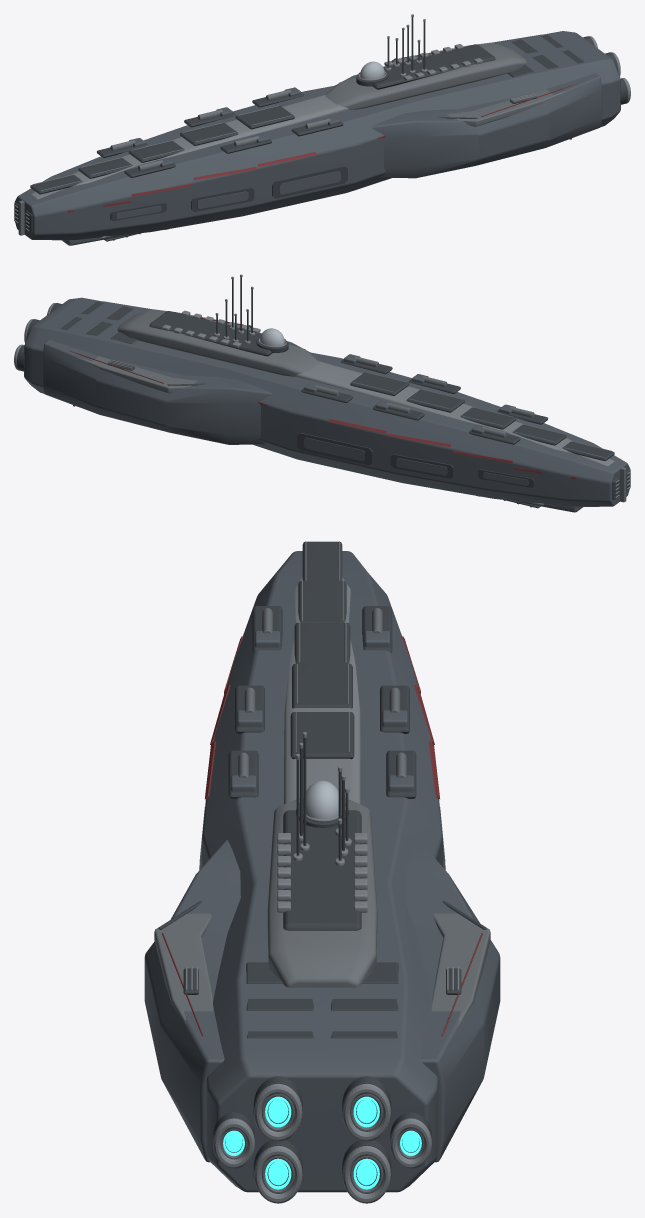
Rendered from wei-ew.glb.
3 views of the same model, one above another, from view 1: azimuth 30°, elevation 25°; view 2: azimuth 150°, elevation 25°; view 3: azimuth 270°, elevation 25° (orthographic). The views are drawn at different scales.
Parts seen in each view (by area): view 1: Faceted continuous wedge, Canted aft wing and field emitter shield, Raised signal intelligence blister, Long sensor deck beam, Black equipment deck, Aft shoulder cap, Recessed dielectric receiver panel.004, Recessed dielectric receiver panel.003, Ventral access apron.002, Access apron inner plate.002, Recessed dielectric receiver panel.002, Recessed dielectric receiver panel.001 (+4 smaller); view 2: Faceted continuous wedge, Canted aft wing and field emitter shield.001, Raised signal intelligence blister, Long sensor deck beam, Black equipment deck, Aft shoulder cap.001, Recessed dielectric receiver panel.004, Recessed dielectric receiver panel.003, Access apron inner plate.005, Ventral access apron.005, Recessed dielectric receiver panel.002, Recessed dielectric receiver panel.001 (+4 smaller); view 3: Faceted continuous wedge, Canted aft wing and field emitter shield.001, Canted aft wing and field emitter shield, Raised signal intelligence blister, Black equipment deck, Long sensor deck beam, Aft shoulder cap, Aft shoulder cap.001, Recessed dielectric receiver panel.004, Recessed dielectric receiver panel.003, Recessed dielectric receiver panel.002, Recessed dielectric receiver panel.001 (+8 smaller).
Boxes of the visible parts, <box> form: Faceted continuous wedge: <box>14,31,620,240</box>; Canted aft wing and field emitter shield: <box>371,73,602,178</box>; Raised signal intelligence blister: <box>325,42,527,109</box>; Long sensor deck beam: <box>30,94,348,199</box>; Black equipment deck: <box>358,44,495,89</box>; Aft shoulder cap: <box>447,89,565,126</box>; Recessed dielectric receiver panel.004: <box>235,105,294,129</box>; Recessed dielectric receiver panel.003: <box>180,122,238,145</box>; Ventral access apron.002: <box>272,166,347,198</box>; Access apron inner plate.002: <box>280,171,340,194</box>; Recessed dielectric receiver panel.002: <box>128,140,184,162</box>; Recessed dielectric receiver panel.001: <box>78,157,132,178</box>; Faceted continuous wedge: <box>24,297,630,506</box>; Canted aft wing and field emitter shield.001: <box>42,340,272,444</box>; Raised signal intelligence blister: <box>117,309,319,376</box>; Long sensor deck beam: <box>296,361,614,465</box>; Black equipment deck: <box>149,311,286,356</box>; Aft shoulder cap.001: <box>77,356,197,393</box>; Recessed dielectric receiver panel.004: <box>350,372,409,395</box>; Recessed dielectric receiver panel.003: <box>406,389,464,412</box>; Access apron inner plate.005: <box>304,437,364,461</box>; Ventral access apron.005: <box>297,433,372,465</box>; Recessed dielectric receiver panel.002: <box>460,407,516,429</box>; Recessed dielectric receiver panel.001: <box>512,424,566,445</box>; Faceted continuous wedge: <box>202,551,442,1192</box>; Canted aft wing and field emitter shield.001: <box>404,841,500,1162</box>; Canted aft wing and field emitter shield: <box>144,840,240,1162</box>; Raised signal intelligence blister: <box>267,798,377,987</box>; Black equipment deck: <box>283,810,361,930</box>; Long sensor deck beam: <box>284,577,360,804</box>; Aft shoulder cap: <box>154,913,213,1024</box>; Aft shoulder cap.001: <box>431,913,490,1027</box>; Recessed dielectric receiver panel.004: <box>290,712,354,759</box>; Recessed dielectric receiver panel.003: <box>292,663,352,708</box>; Recessed dielectric receiver panel.002: <box>294,622,350,663</box>; Recessed dielectric receiver panel.001: <box>298,580,346,622</box>.
Bounding box in the file's own units: 400 × 98.75 × 105.
